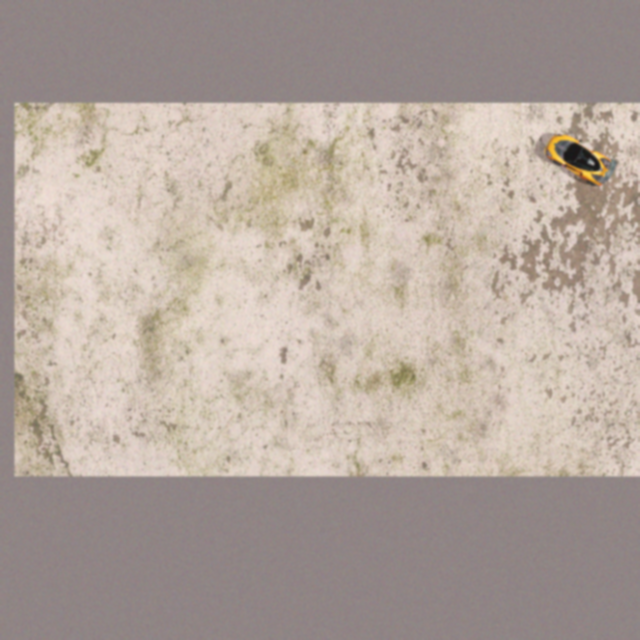car: (540, 125, 621, 191)
